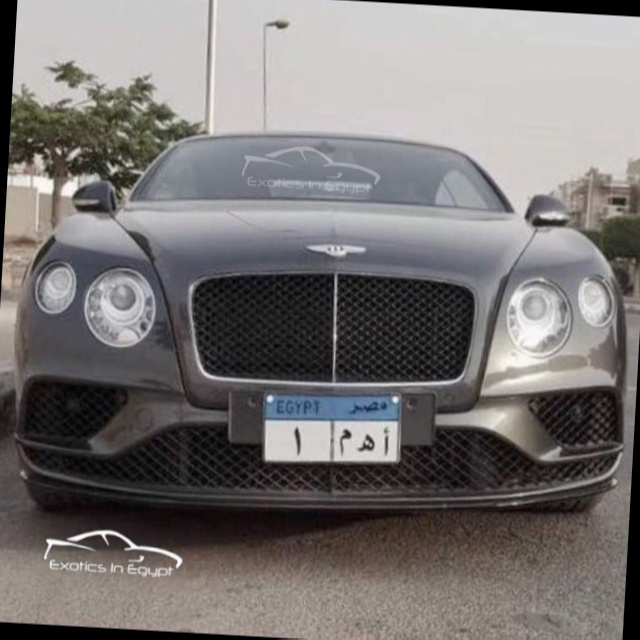License Plate: (256, 384, 408, 474)
